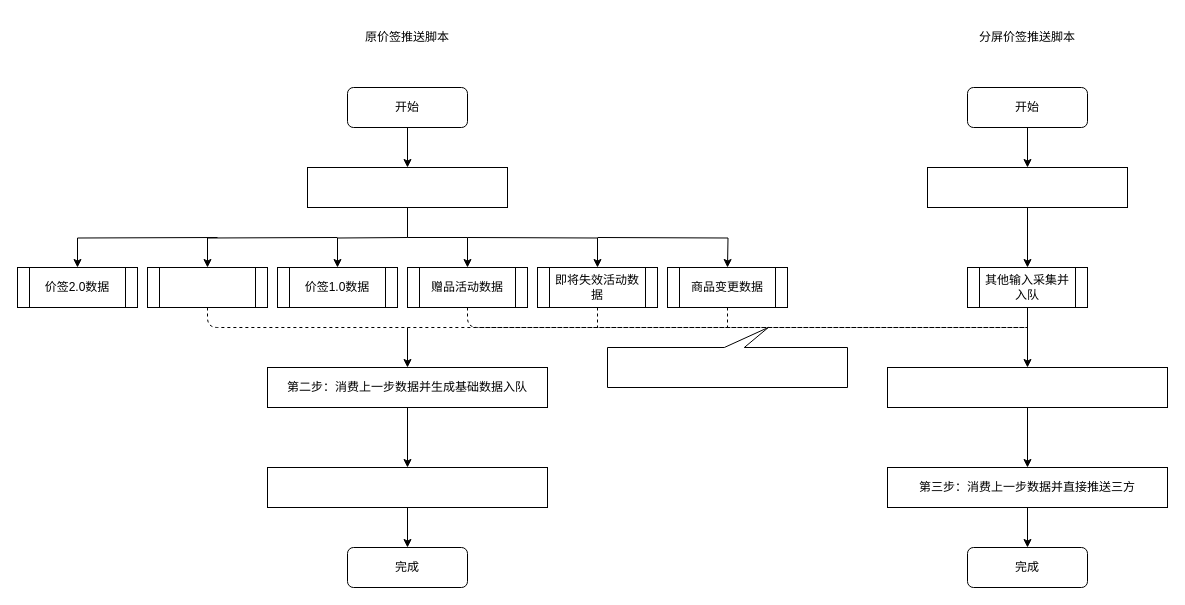
Some shapes in this 1185 by 605 pixel diagram are drawn without their labels. Each missing label, with the centre of its shape:
"原脚本数据缓存保存一份副本并入队" belongs at point (727, 357).
"直降活动数据" belongs at point (207, 287).
"第一步：扫描分屏机价签数据入队" belongs at point (1027, 187).
"第一步：扫描数据并入队" belongs at point (407, 187).
"第三步：消费上一步数据并生成push数据推送三方" belongs at point (407, 487).
"第二步：消费上一步数据并生成push数据入队" belongs at point (1027, 387).
